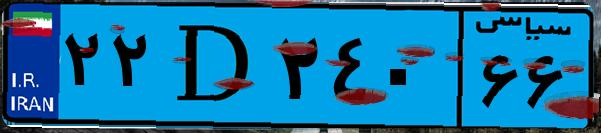0: (385, 28, 445, 110)
2: (270, 28, 330, 110), (57, 26, 110, 100), (110, 28, 158, 98)
4: (330, 28, 385, 110)
6: (475, 38, 525, 113), (525, 38, 570, 115)
D: (158, 12, 270, 120)
